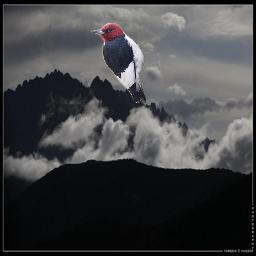Woodpecker: (91, 23, 146, 103)
